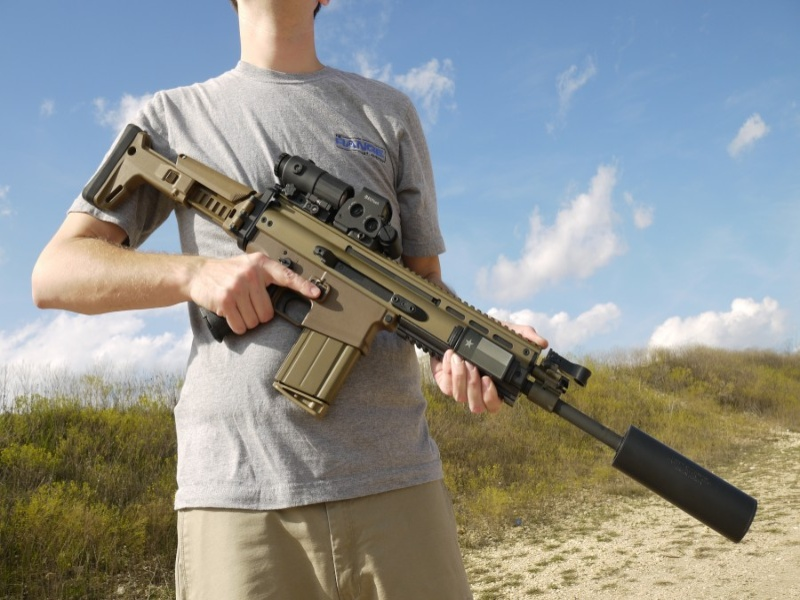person: (31, 1, 547, 600)
weapon: (82, 124, 757, 541)
